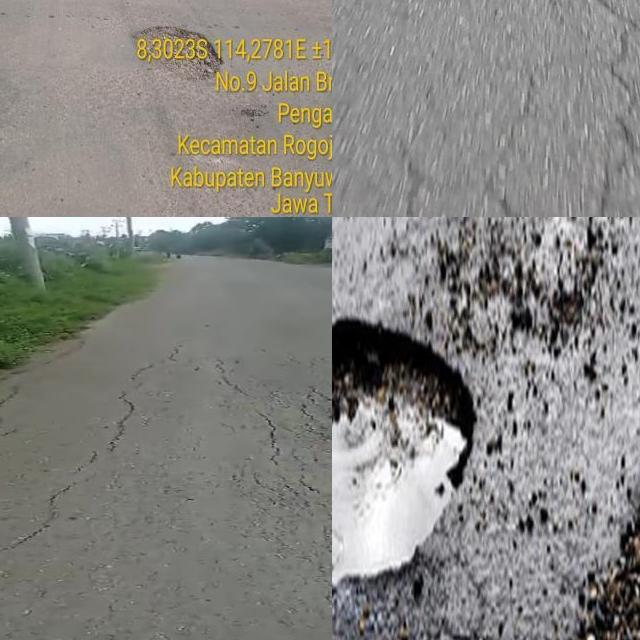Lubang: (332, 315, 483, 599), (128, 26, 226, 72)
Retak Buaya: (563, 0, 640, 217)
